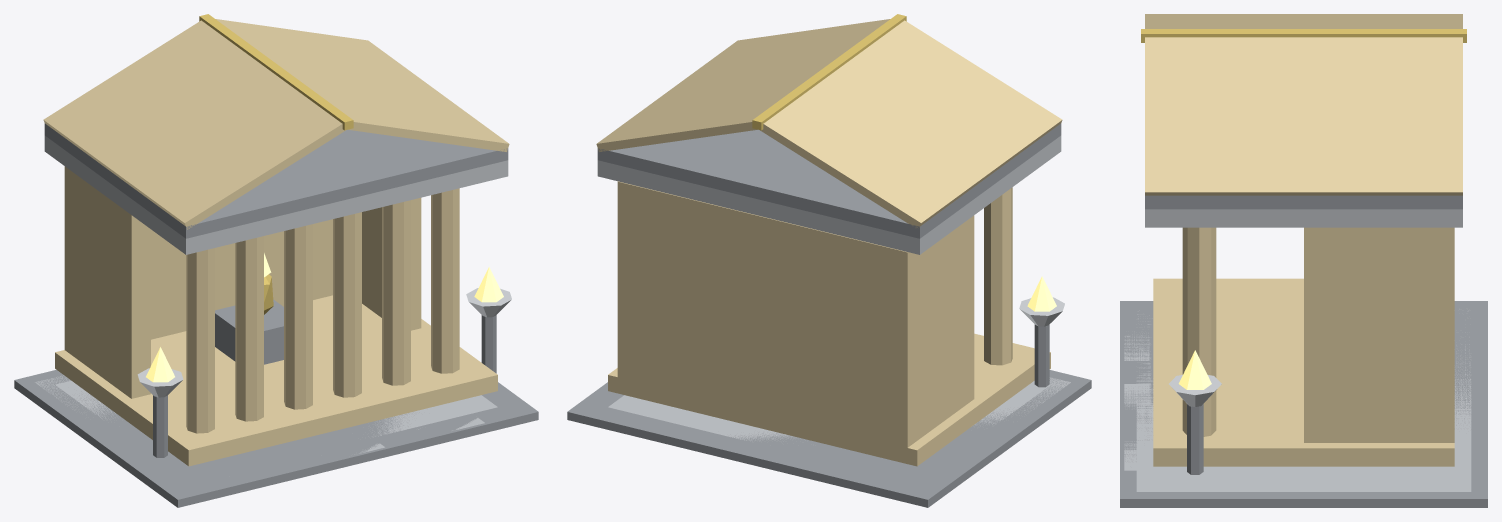
File: temple.glb
3 views of the same model, side by side, from view 1: azimuth 30°, elevation 25°; view 2: azimuth 150°, elevation 25°; view 3: azimuth 270°, elevation 25° (orthographic). The views are drawn at different scales.
Visible parts, largest first — view 1: pediment_l, stylobate, platform_step, cella_wall, frieze, pediment_r, entablature, cella_back, column.005, column, column.001, column.002 (+12 smaller); view 2: cella_back, pediment_l, platform_step, cella_wall, frieze, pediment_r, stylobate, entablature, column, platform_step.002, cella_wall.001, pediment_ridge (+3 smaller); view 3: pediment_r, cella_wall.001, stylobate, platform_step, platform_step.001, entablature, column.005, frieze, pediment_l, pediment_ridge, brazier_stem.001, brazier_bowl.001 (+3 smaller).
Boxes of the visible parts, x1,y1,x2,y2 form: pediment_l: [43, 20, 345, 229]; stylobate: [55, 295, 497, 466]; platform_step: [14, 370, 538, 507]; cella_wall: [64, 166, 150, 398]; frieze: [44, 123, 508, 238]; pediment_r: [216, 19, 509, 151]; entablature: [44, 135, 508, 254]; cella_back: [151, 219, 332, 339]; column.005: [431, 188, 459, 373]; column: [186, 248, 214, 433]; column.001: [235, 236, 263, 421]; column.002: [284, 224, 312, 409]; cella_back: [627, 184, 897, 444]; pediment_l: [760, 20, 1062, 227]; platform_step: [567, 370, 1091, 507]; cella_wall: [888, 215, 974, 447]; frieze: [597, 123, 1061, 238]; pediment_r: [596, 19, 889, 151]; stylobate: [608, 333, 1050, 466]; entablature: [597, 135, 1061, 254]; column: [984, 187, 1012, 365]; platform_step.002: [608, 381, 1050, 441]; cella_wall.001: [617, 181, 636, 379]; pediment_ridge: [752, 14, 906, 130]; pediment_r: [1145, 37, 1462, 195]; cella_wall.001: [1304, 227, 1454, 442]; stylobate: [1153, 278, 1454, 466]; platform_step: [1120, 301, 1487, 507]; platform_step.001: [1136, 309, 1471, 491]; entablature: [1145, 209, 1462, 227]; column.005: [1182, 227, 1216, 436]; frieze: [1145, 195, 1462, 209]; pediment_l: [1145, 14, 1462, 28]; pediment_ridge: [1141, 29, 1466, 42]; brazier_stem.001: [1187, 404, 1203, 474]; brazier_bowl.001: [1169, 375, 1221, 406].
Size of the model in its own units: 5.74 by 4.98 by 4.4.
